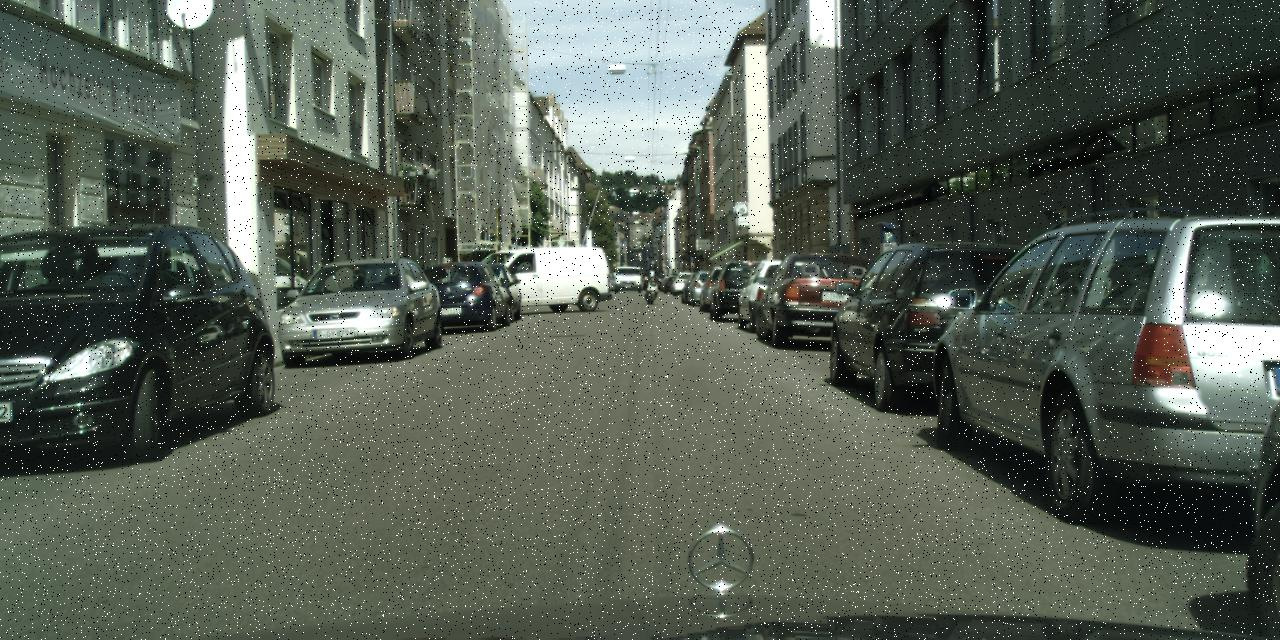ped: (643, 261, 658, 298)
